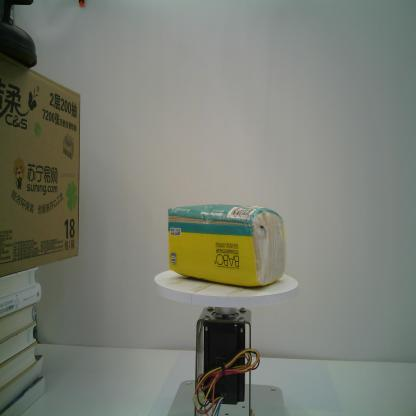Tissue: (166, 202, 289, 289)
